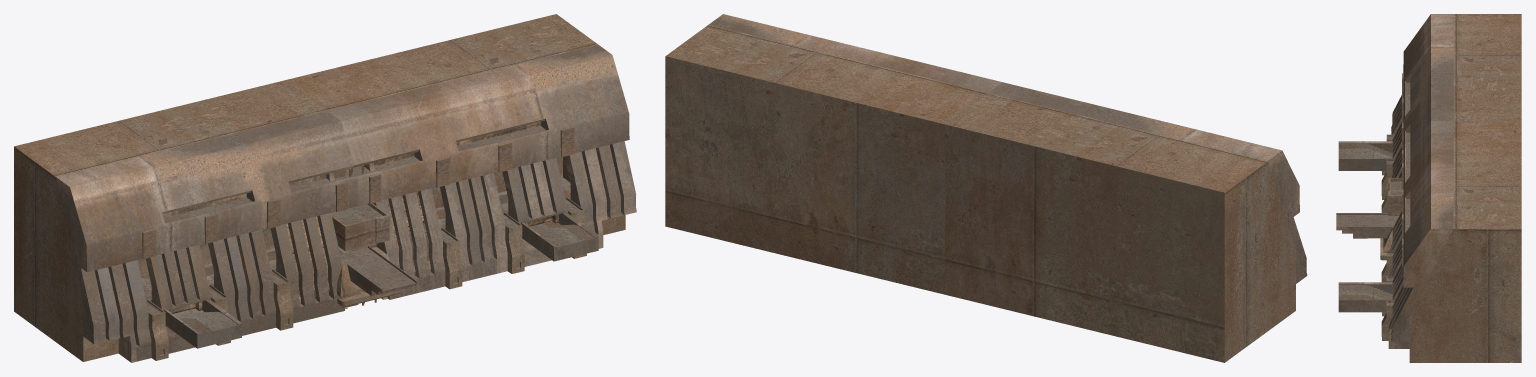
The model's file is xi_dsp_palace.gltf.
3 views of the same model, side by side, from view 1: azimuth 30°, elevation 25°; view 2: azimuth 150°, elevation 25°; view 3: azimuth 270°, elevation 25° (orthographic). The views are drawn at different scales.
Parts seen in each view (by area): view 1: xi_dsp_palace; view 2: xi_dsp_palace; view 3: xi_dsp_palace.
Boxes of the visible parts, left/top/right/bottom form: xi_dsp_palace: left=14, top=14, right=636, bottom=362; xi_dsp_palace: left=665, top=14, right=1307, bottom=362; xi_dsp_palace: left=1336, top=14, right=1521, bottom=362.
Size of the model in its own units: 149 by 43.32 by 54.3.
4 materials, 4 textured.
